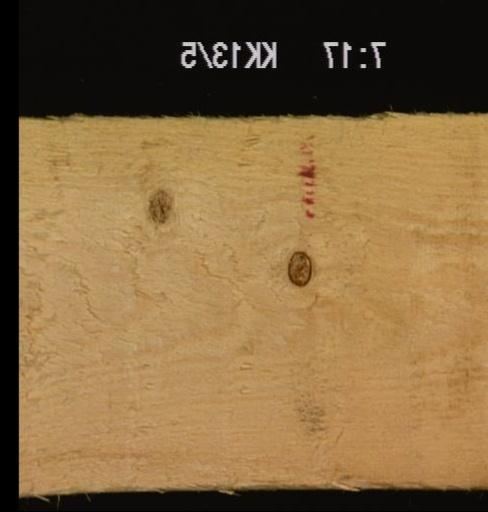dry_knot: (143, 185, 176, 223), (284, 249, 314, 287)
wave: (329, 463, 444, 493)
